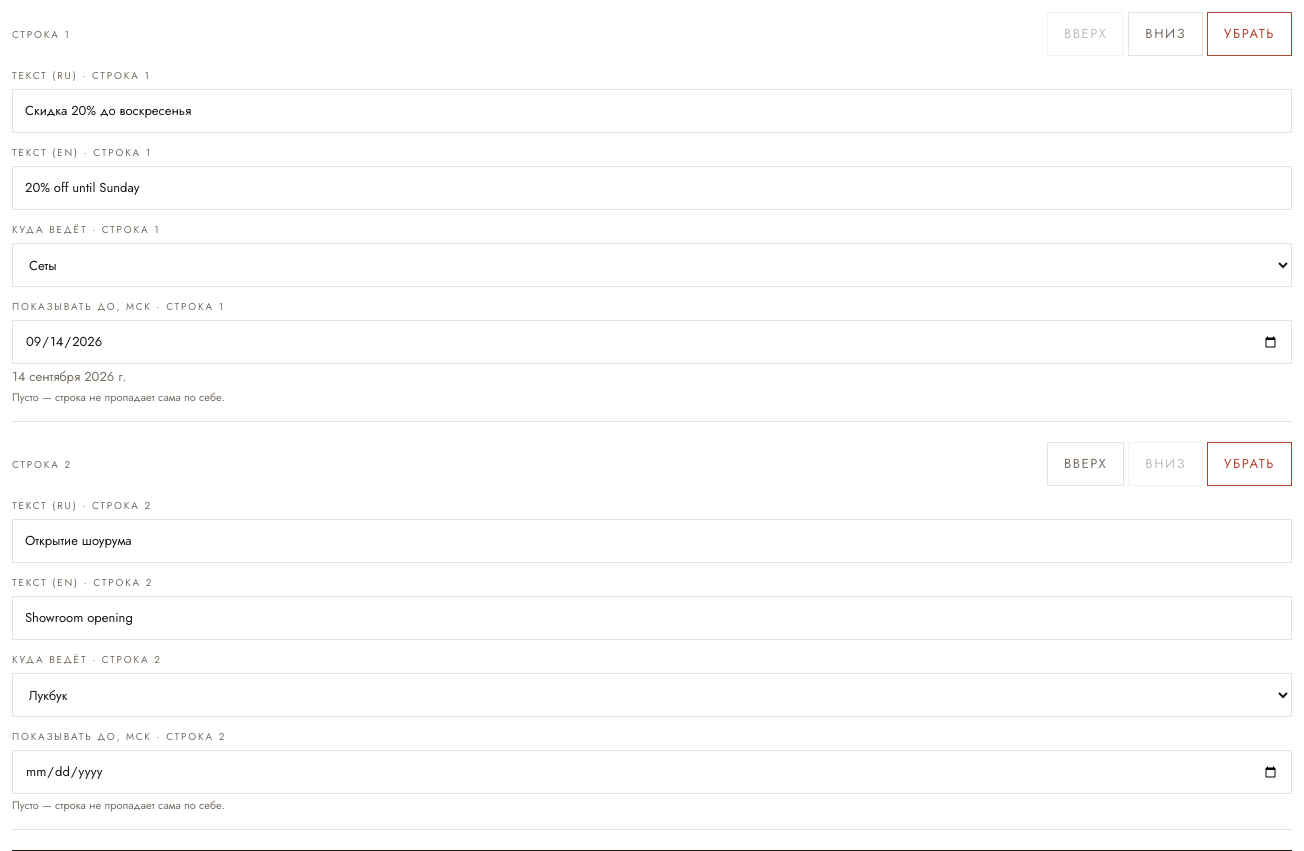
Test: «Куда ведёт» — выбор вместо текстового поля (дефект №1) › без товаров в каталоге «Конкретный товар» не подсовывает пустой список, а объясняет по-русски
Select "Конкретный товар" in the dropdown labelled "Куда ведёт · строка 1" at point(652, 265), box top-left (12, 243), bottom-right (1292, 287)
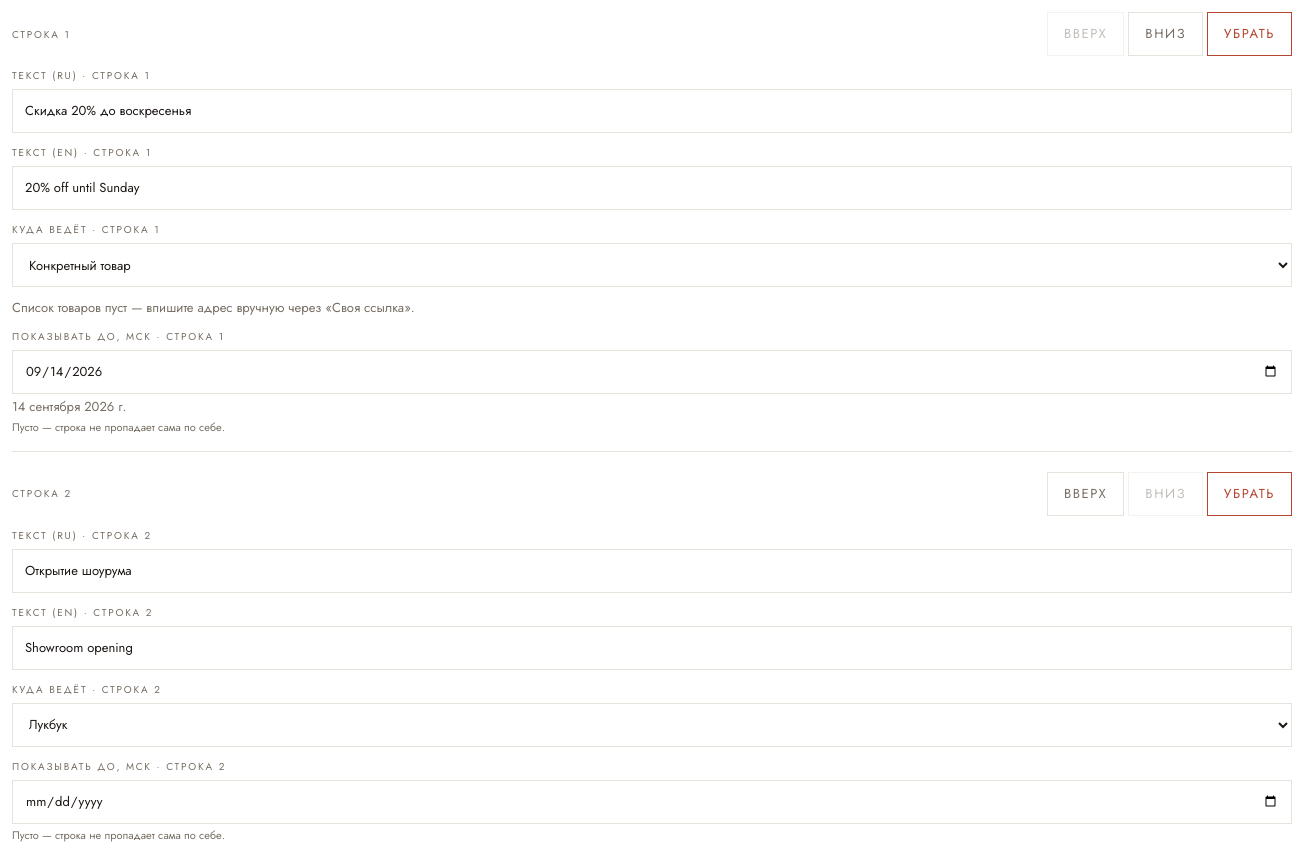
Check: the text "Список товаров пуст" is shown, box top-left (12, 298), bottom-right (415, 317)
